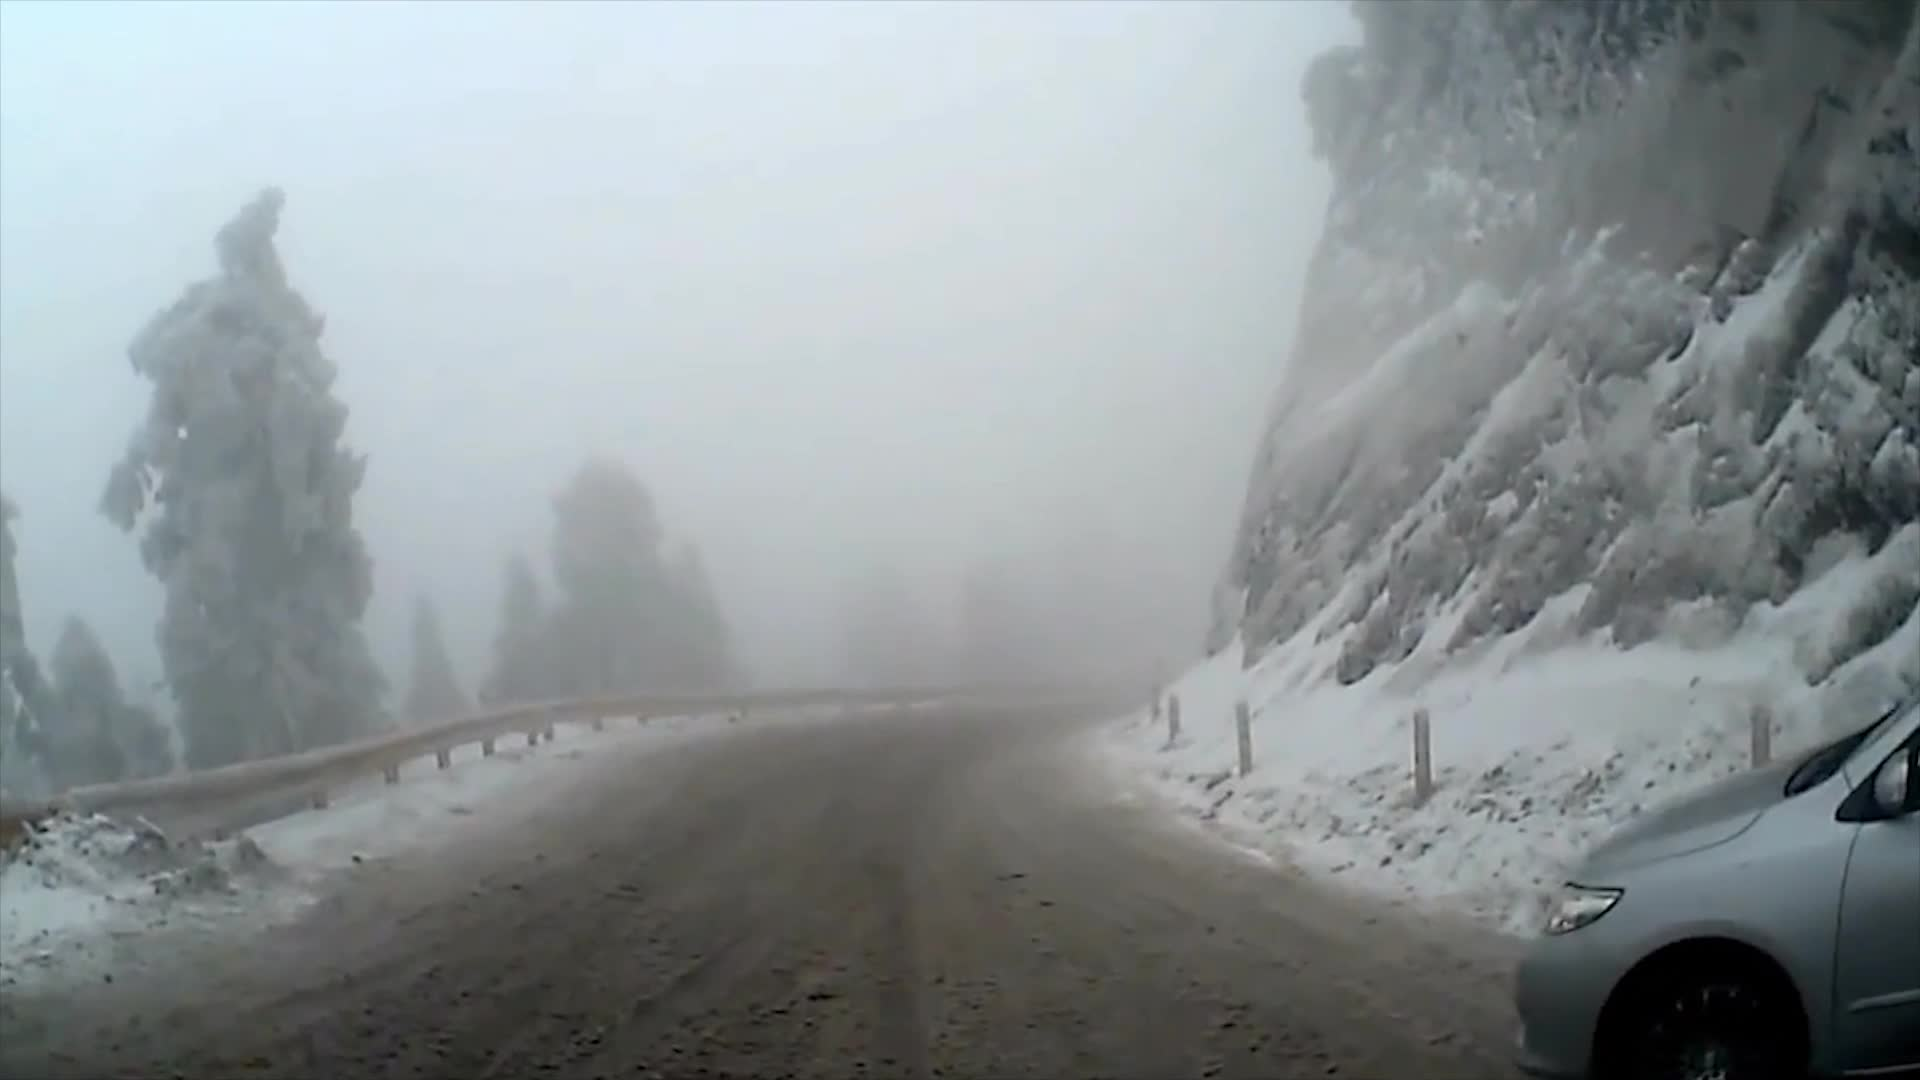vehicle: (1509, 675, 1920, 1080)
